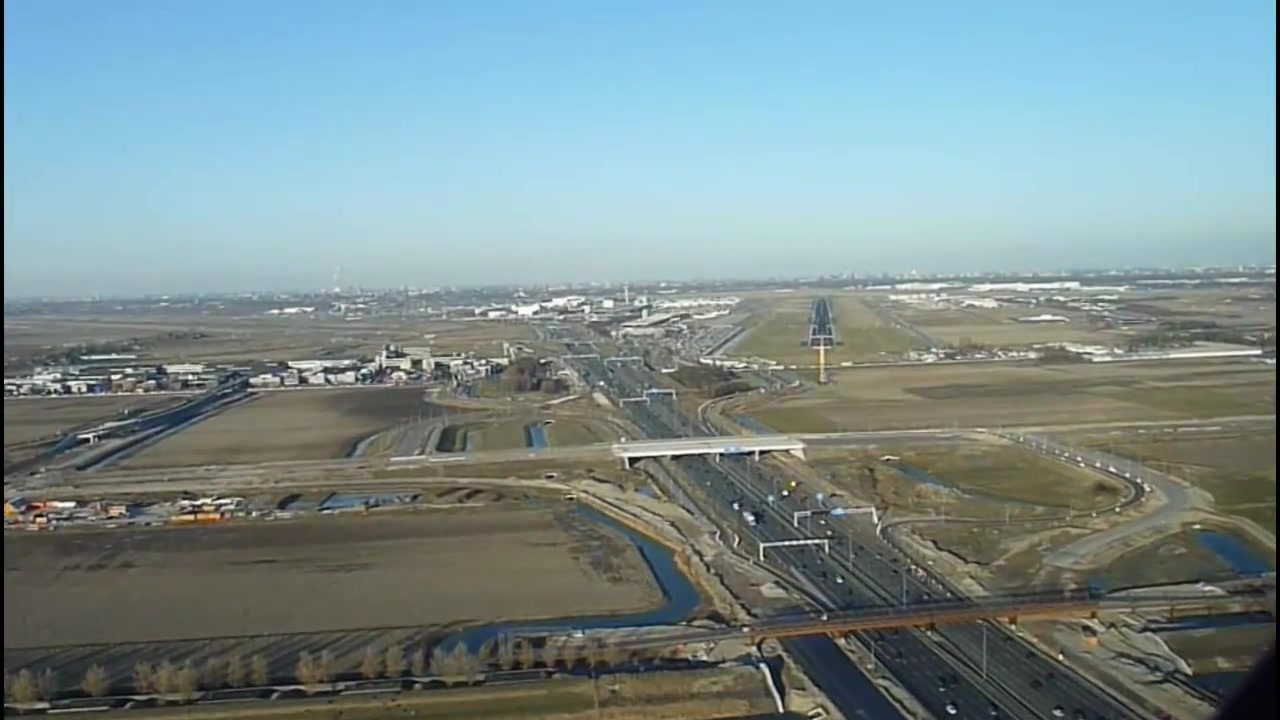runway: (809, 298, 838, 348)
